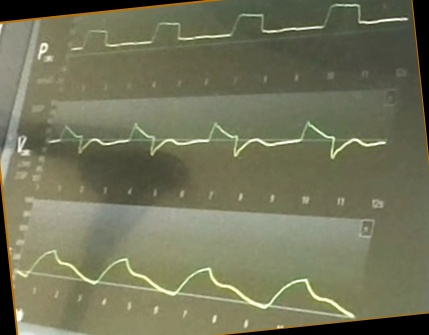Premature_cycling Flow: (52, 109, 387, 173)
Premature_cycling Volume: (21, 242, 356, 317)
